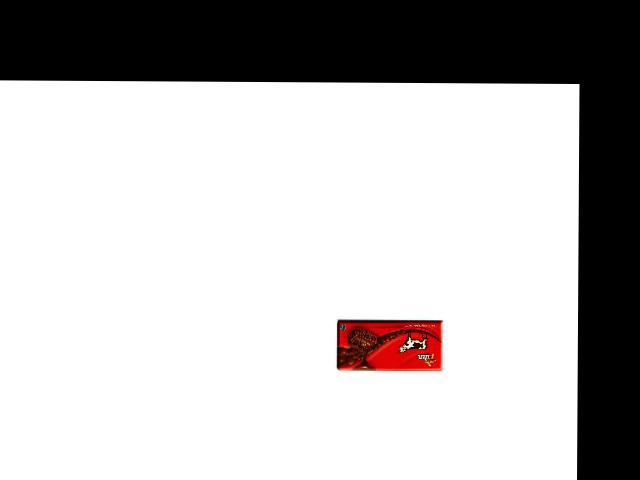chocolate: (334, 314, 446, 373)
